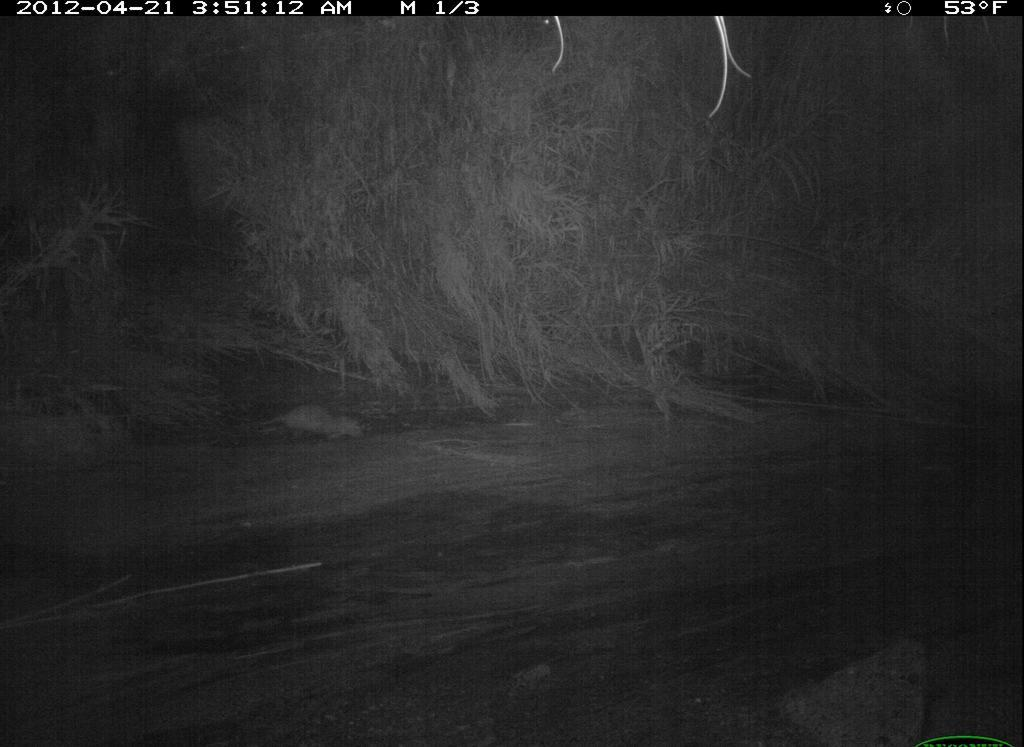opossum: (246, 396, 374, 451)
